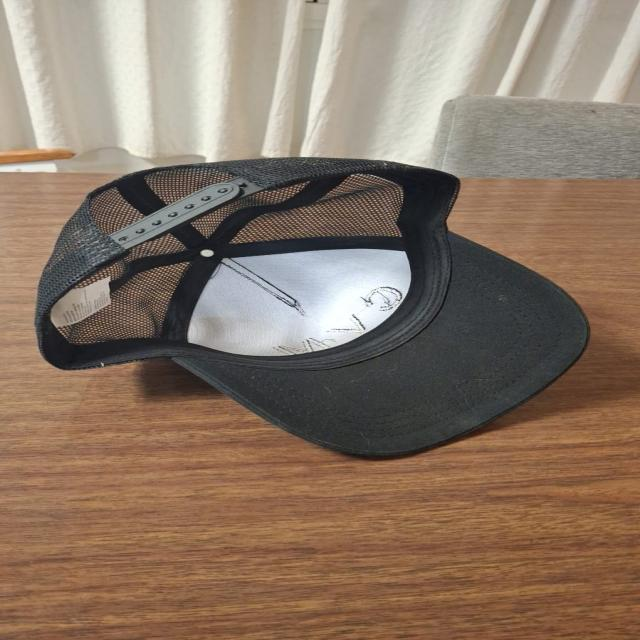Gorra: (21, 156, 592, 463)
